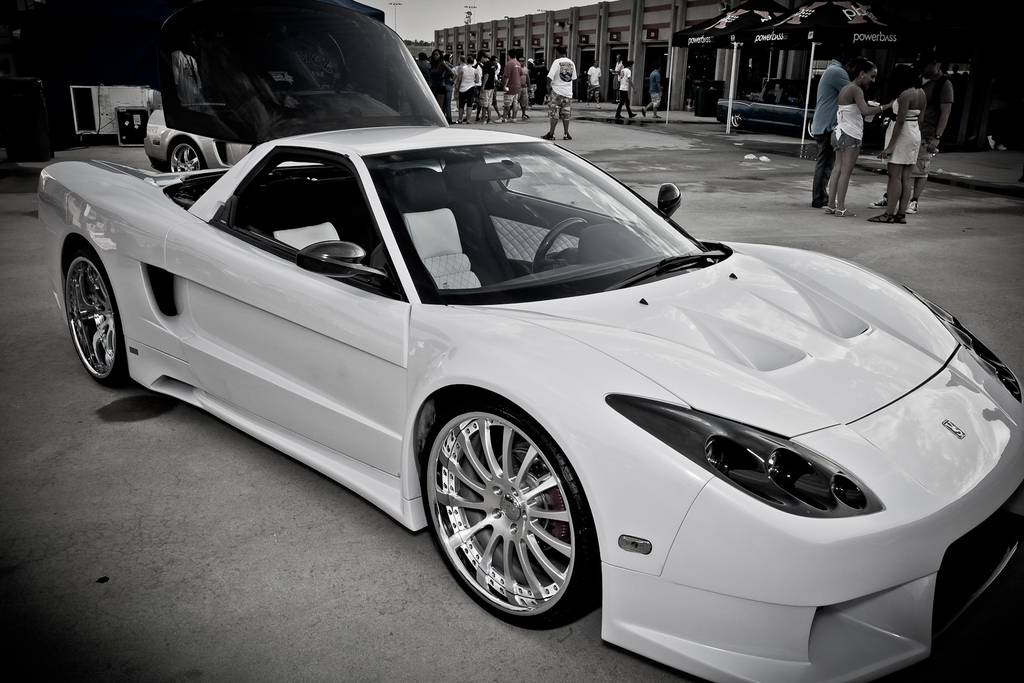Car: (36, 0, 1024, 683), (141, 85, 397, 171), (715, 78, 890, 140)
